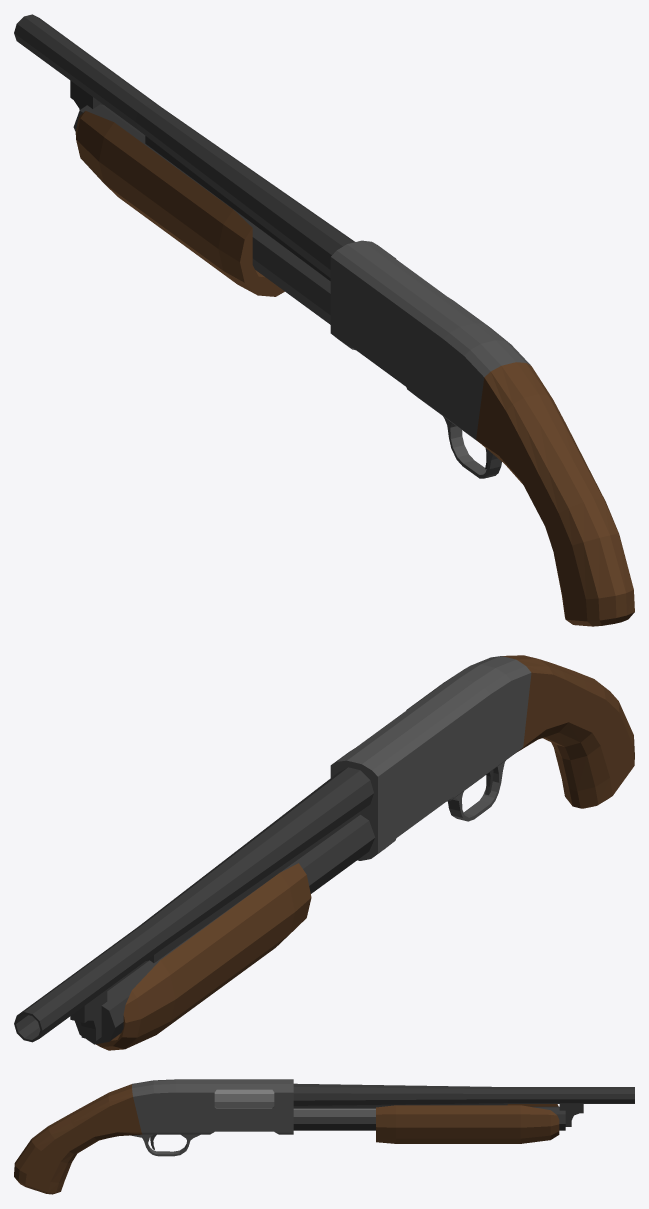
The model's file is sawed gun.fbx.
3 views of the same model, one above another, from view 1: azimuth 30°, elevation 25°; view 2: azimuth 150°, elevation 25°; view 3: azimuth 270°, elevation 25° (orthographic). The views are drawn at different scales.
Visible parts, largest first — view 1: sawed_gun, Bolt; view 2: sawed_gun, Bolt; view 3: sawed_gun, Bolt.
Part boxes in pixels (x1,y1,x2,y2): sawed_gun: [14, 14, 634, 626]; Bolt: [75, 111, 284, 296]; sawed_gun: [14, 655, 634, 1044]; Bolt: [96, 863, 311, 1050]; sawed_gun: [14, 1079, 634, 1194]; Bolt: [214, 1089, 559, 1143].
Bounding box in the file's own units: 51.35 × 135 × 688.
1 material, 1 textured.
